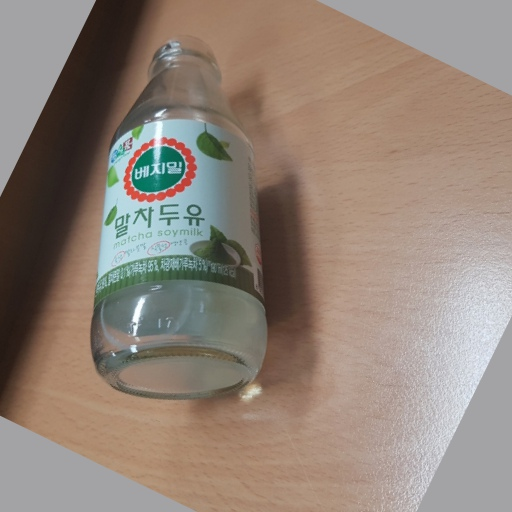Glass_4: (86, 34, 270, 398)
